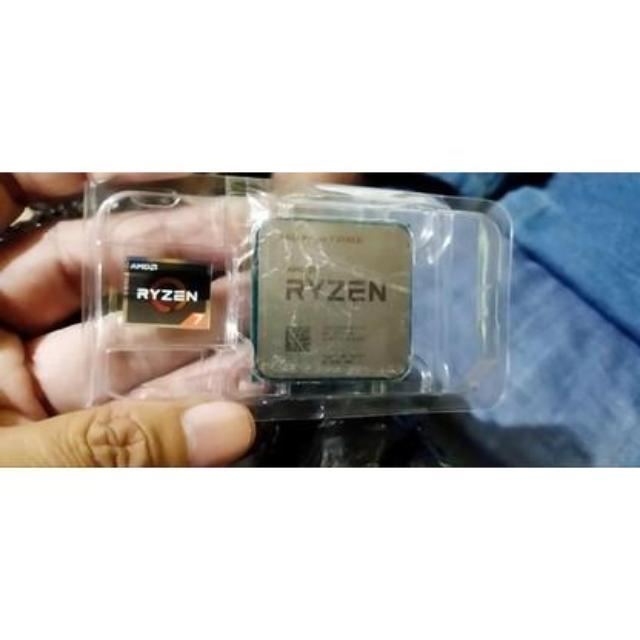CPU: (254, 219, 414, 379)
